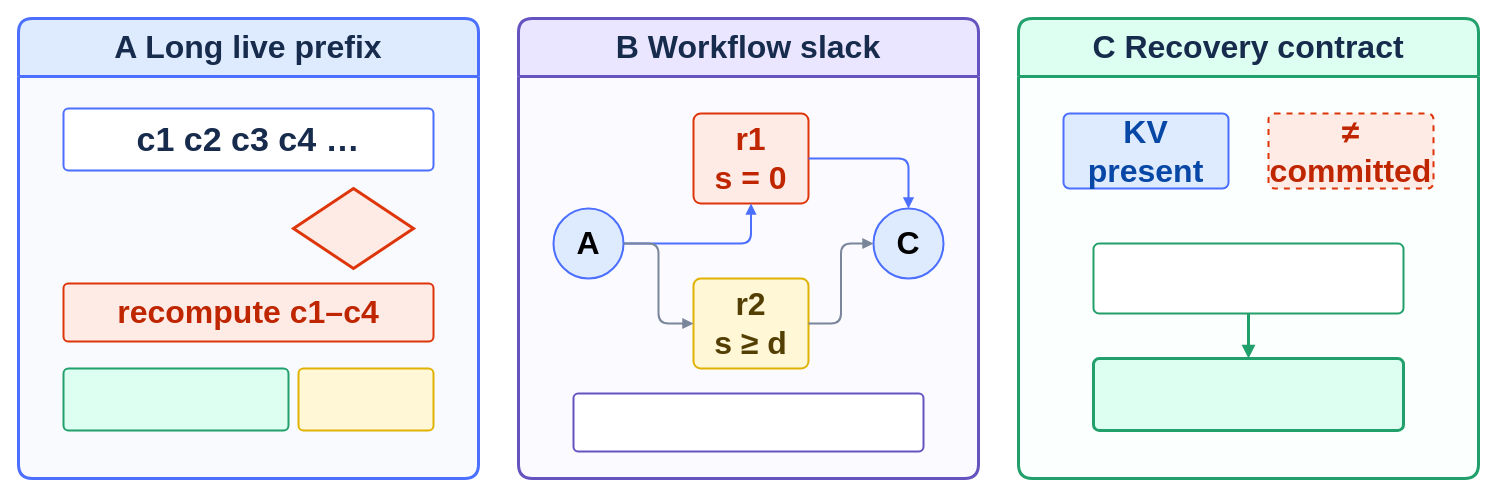
The diagram is 1497 pixels wide and 497 high, and some of its shapes have lost their labels. The centre of each missing label's shape, as x and y in pixels:
"GPU fail" belongs at point 353,228.
"redo c4" belongs at point 365,399.
"restore c1–c3" belongs at point 175,399.
"safe frontier" belongs at point 1248,394.
"version + ACK" belongs at point 1248,278.
"ΔWCT = max(0, d − s)" belongs at point 748,422.
